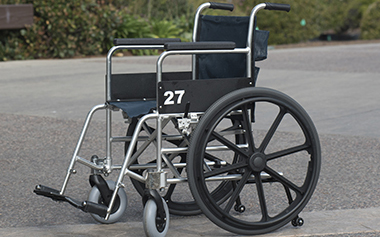wheelchair: (32, 2, 318, 234)
